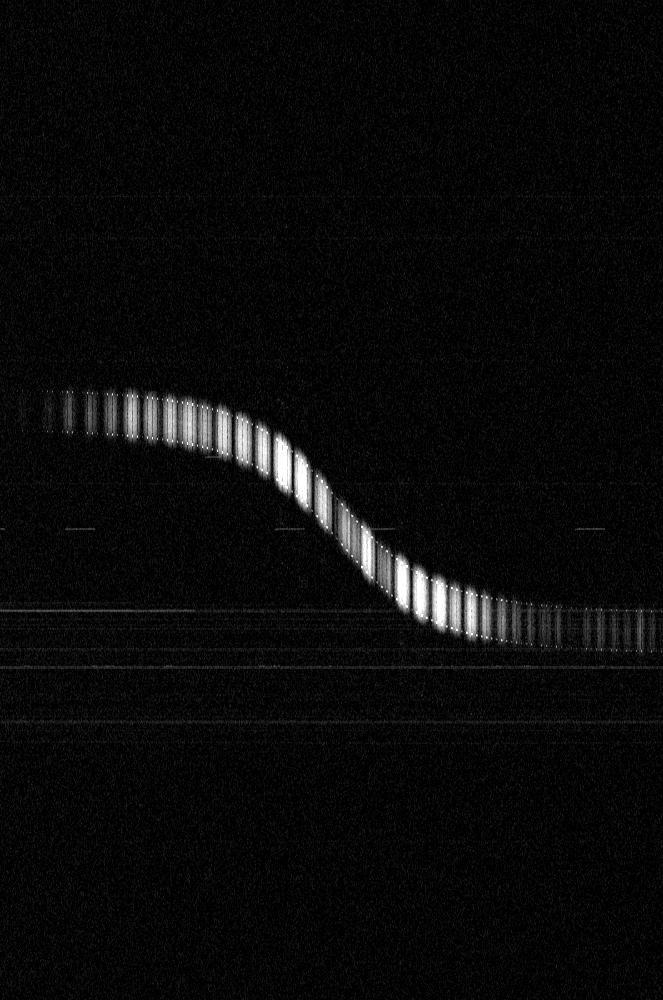signal: (0, 0, 662, 999)
